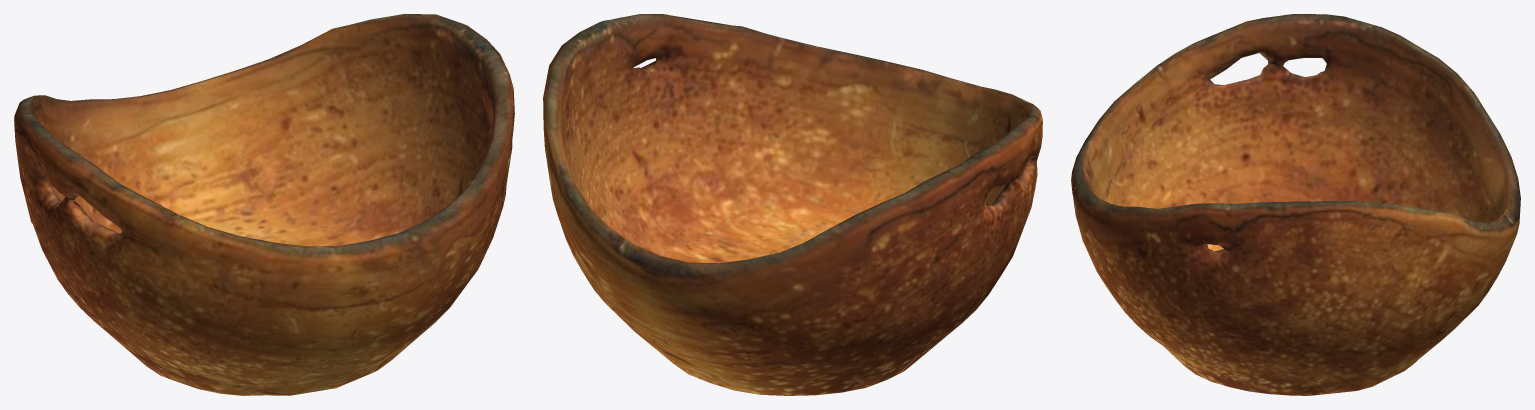
Rendered from wooden_bowl_02.glb.
3 renders of one model, left to right at view 1: azimuth 30°, elevation 25°; view 2: azimuth 150°, elevation 25°; view 3: azimuth 270°, elevation 25°, orthographic. The views are drawn at different scales.
Visible parts, largest first — view 1: wooden_bowl_02; view 2: wooden_bowl_02; view 3: wooden_bowl_02.
Part boxes in pixels (left/top/right/bottom): wooden_bowl_02: left=14, top=14, right=514, bottom=395; wooden_bowl_02: left=543, top=14, right=1042, bottom=395; wooden_bowl_02: left=1071, top=14, right=1520, bottom=395.
Size of the model in its own units: 0.1307 by 0.0731 by 0.1245.
1 material, 1 textured.
